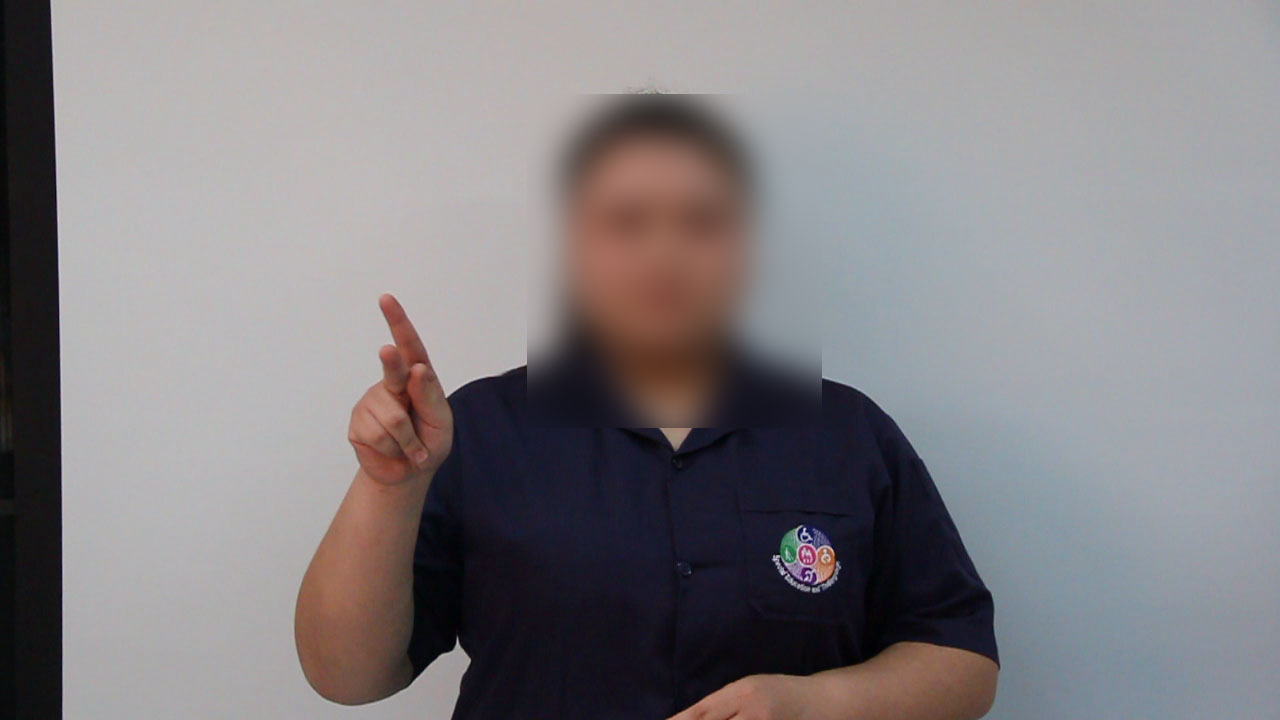ko: (310, 286, 483, 487)
